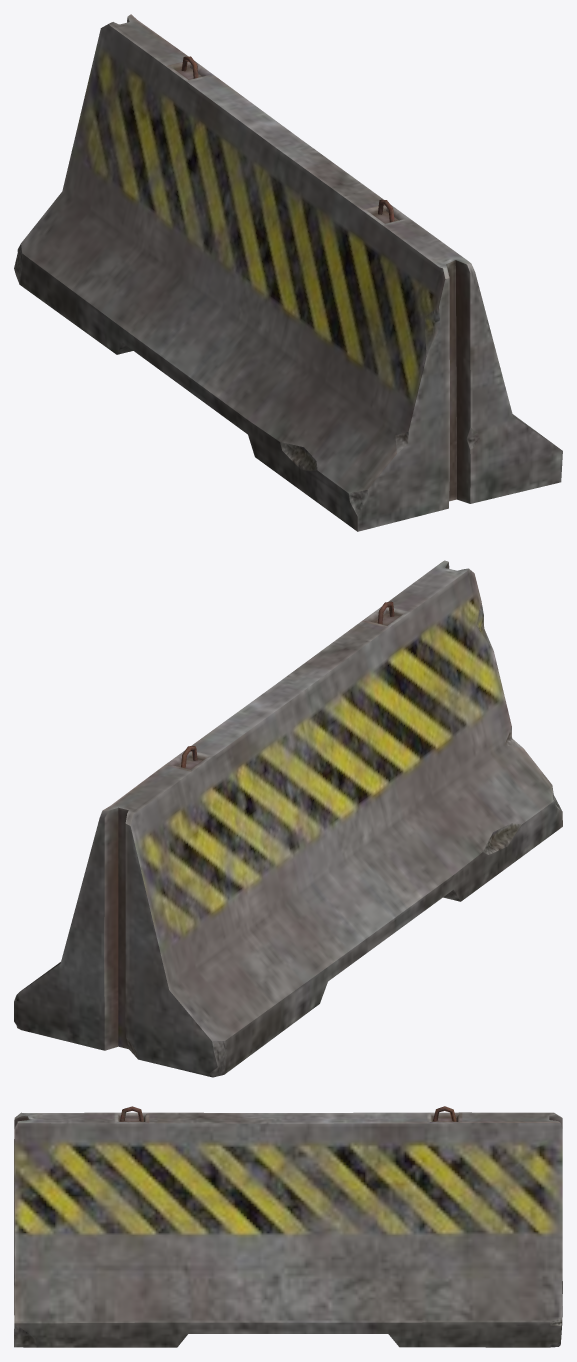
The model's file is concrete_fence.glb.
3 renders of one model, top to bottom at view 1: azimuth 30°, elevation 25°; view 2: azimuth 150°, elevation 25°; view 3: azimuth 270°, elevation 25°, orthographic. The views are drawn at different scales.
Visible parts, largest first — view 1: LP1; view 2: LP1; view 3: LP1.
Boxes of the visible parts, x1,y1,x2,y2 form: LP1: (14,14,562,531); LP1: (14,560,562,1077); LP1: (14,1106,562,1347).
Size of the model in its own units: 59.81 by 69.87 by 173.
Materials: 1 (1 with a texture image).
